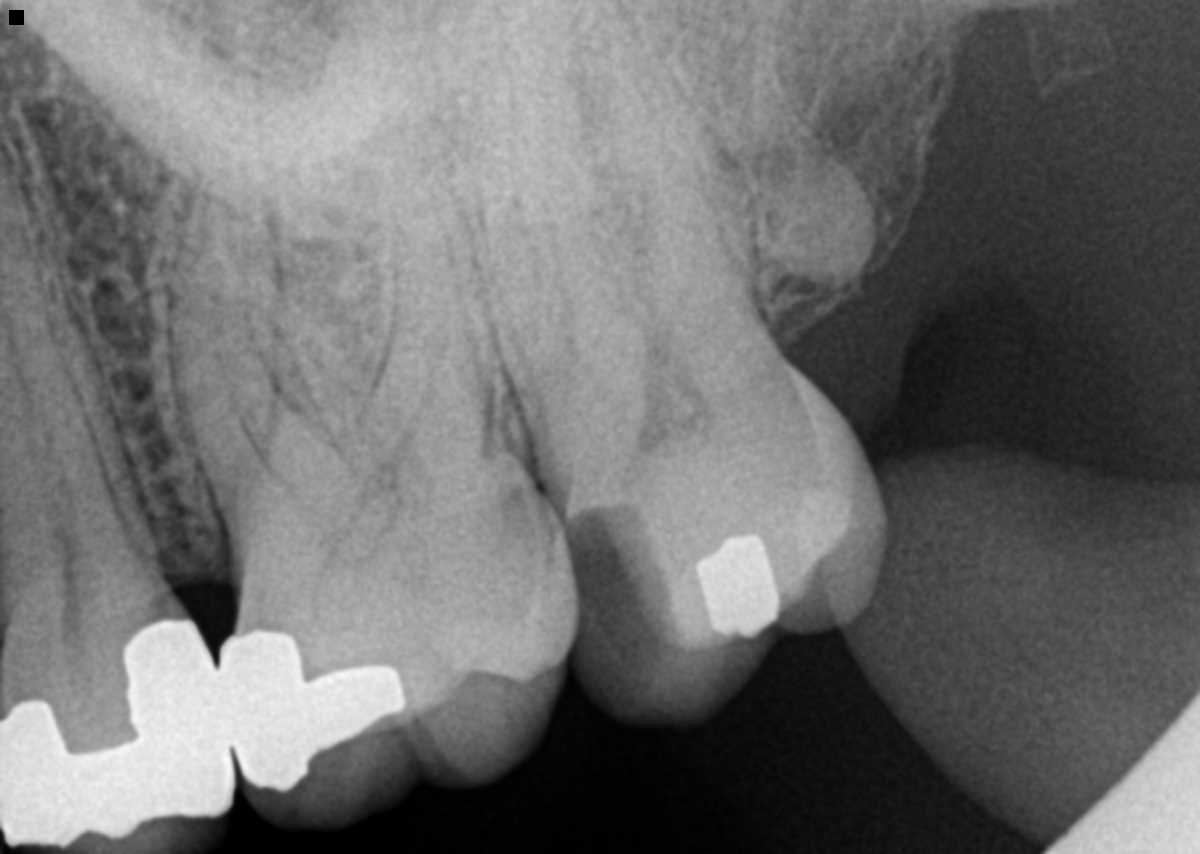Distal Canal: (404, 283, 450, 445)
Distal Root: (356, 147, 497, 445), (611, 54, 758, 306)
Main Canal: (6, 333, 77, 585)
Main Root: (0, 132, 154, 591)
Mesial Canal: (211, 294, 308, 510)
Mesial Root: (470, 74, 640, 430), (169, 165, 333, 524)
Palatal Root: (240, 15, 513, 571)
decay: (558, 505, 681, 708)
